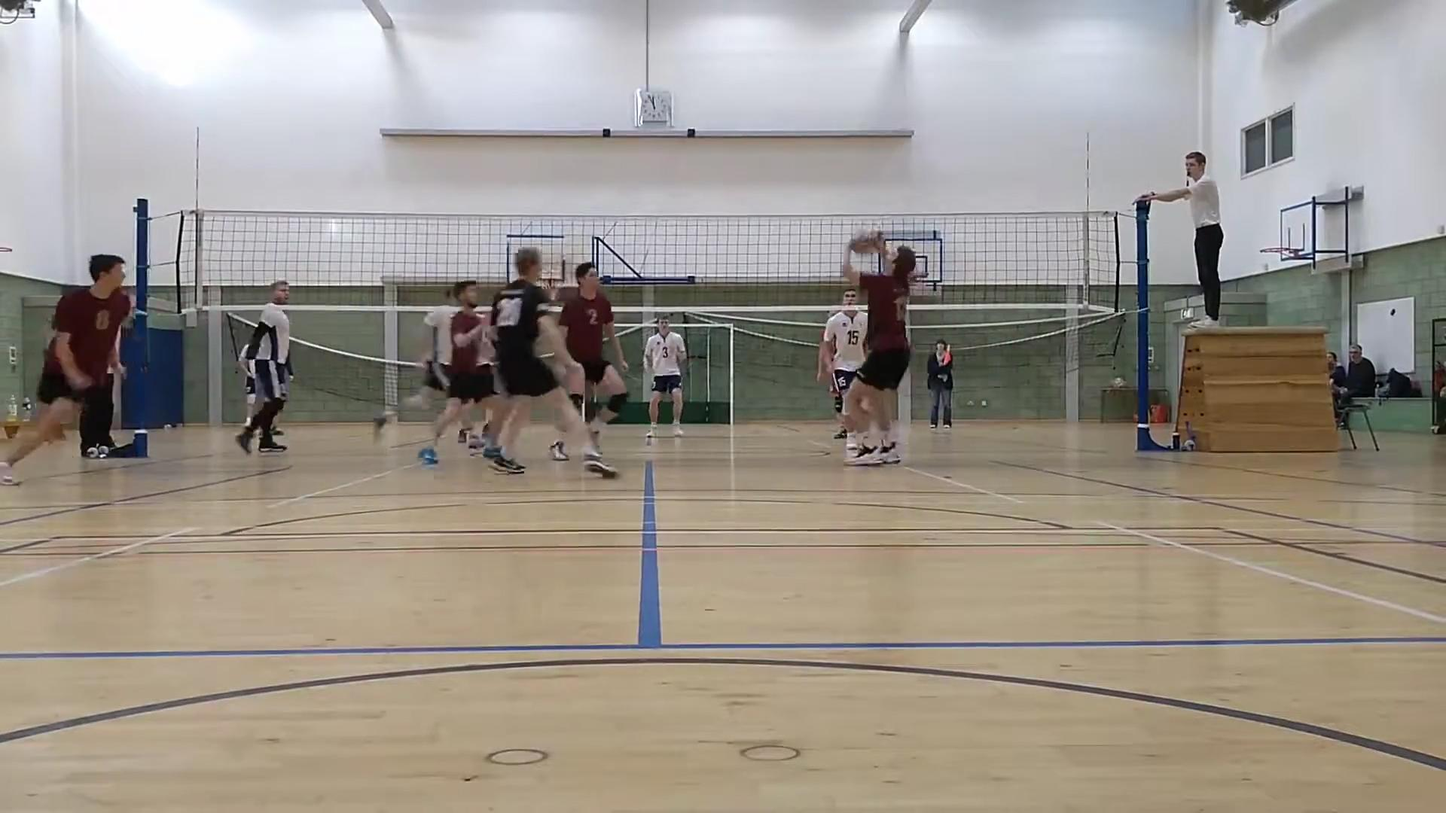Player: (0, 256, 131, 485), (491, 248, 616, 477), (418, 280, 495, 464), (560, 262, 627, 442), (236, 281, 291, 453), (818, 289, 868, 449), (404, 283, 461, 409), (644, 317, 685, 438)
Set: (829, 224, 915, 471)
ball: (838, 220, 886, 261)
